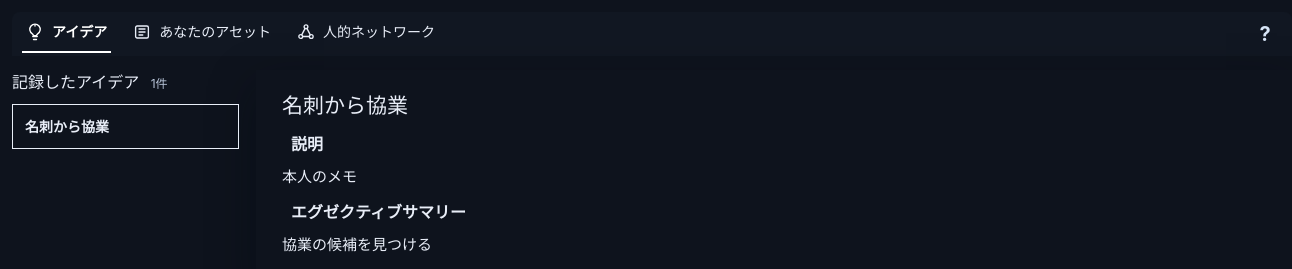
Test: shows saved idea content, common asset cards, and a people placeholder
Expected: the number of elements with class "local-home__idea-card" is 1, top-left (12, 104), bottom-right (239, 149)
What coordinates should you click on to do the following:
click the tab "あなたのアセット"
I would click on:
 (202, 34)
Its box is top-left (129, 16), bottom-right (275, 52).
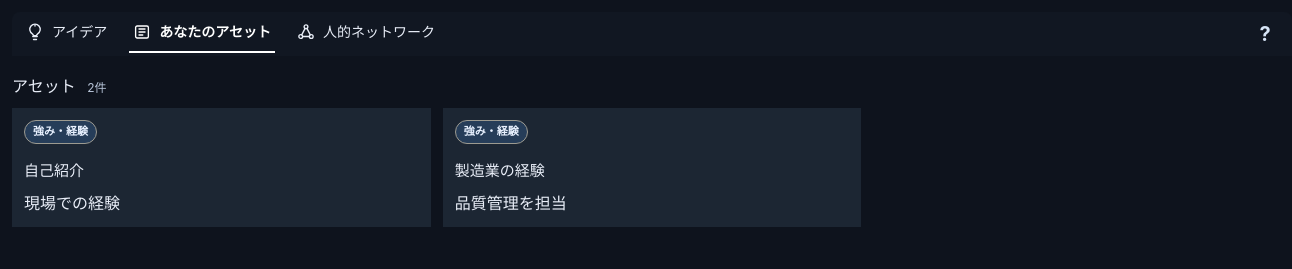
Result: the number of list items with class "local-home__asset-card" is 2 at top-left (12, 108), bottom-right (431, 227); top-left (443, 108), bottom-right (861, 227)
Result: the text "自己紹介" is shown at top-left (24, 161), bottom-right (84, 180)
Result: the text "製造業の経験" is shown at top-left (455, 161), bottom-right (545, 180)
What coordinates should you click on to do the following:
click the tab "人的ネットワーク"
I would click on:
 (366, 34)
Its box is top-left (293, 16), bottom-right (439, 52).
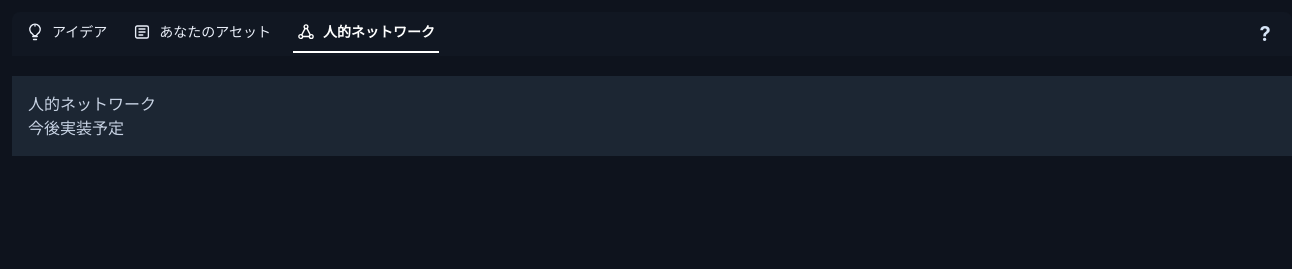
Result: the text "今後実装予定" is shown at top-left (28, 118), bottom-right (124, 138)
